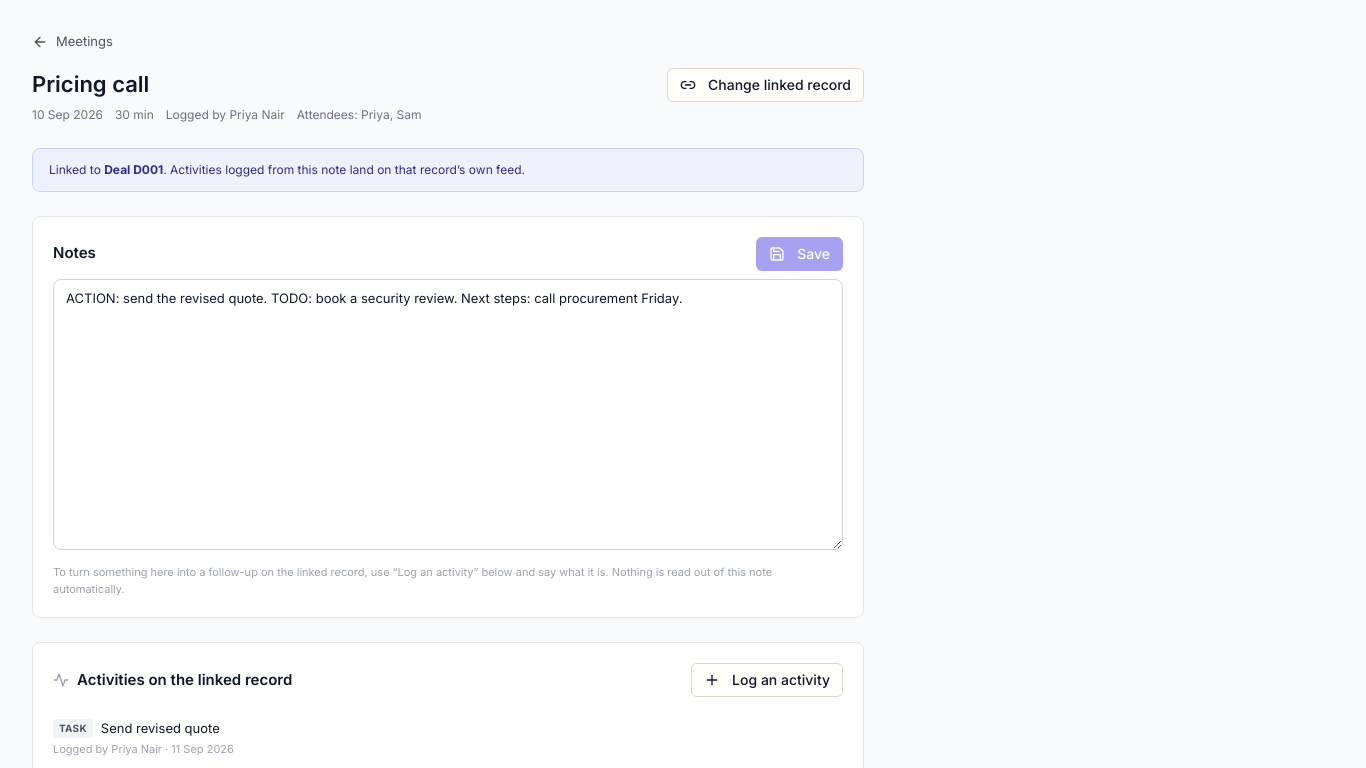
Test: the push action › shows the server's rejection verbatim — it names the field and discloses nothing
Expected: the heading "Pricing call" is shown, left=32, top=68, right=149, bottom=100
Click the button "Change linked record" at (766, 84), box left=667, top=68, right=864, bottom=102
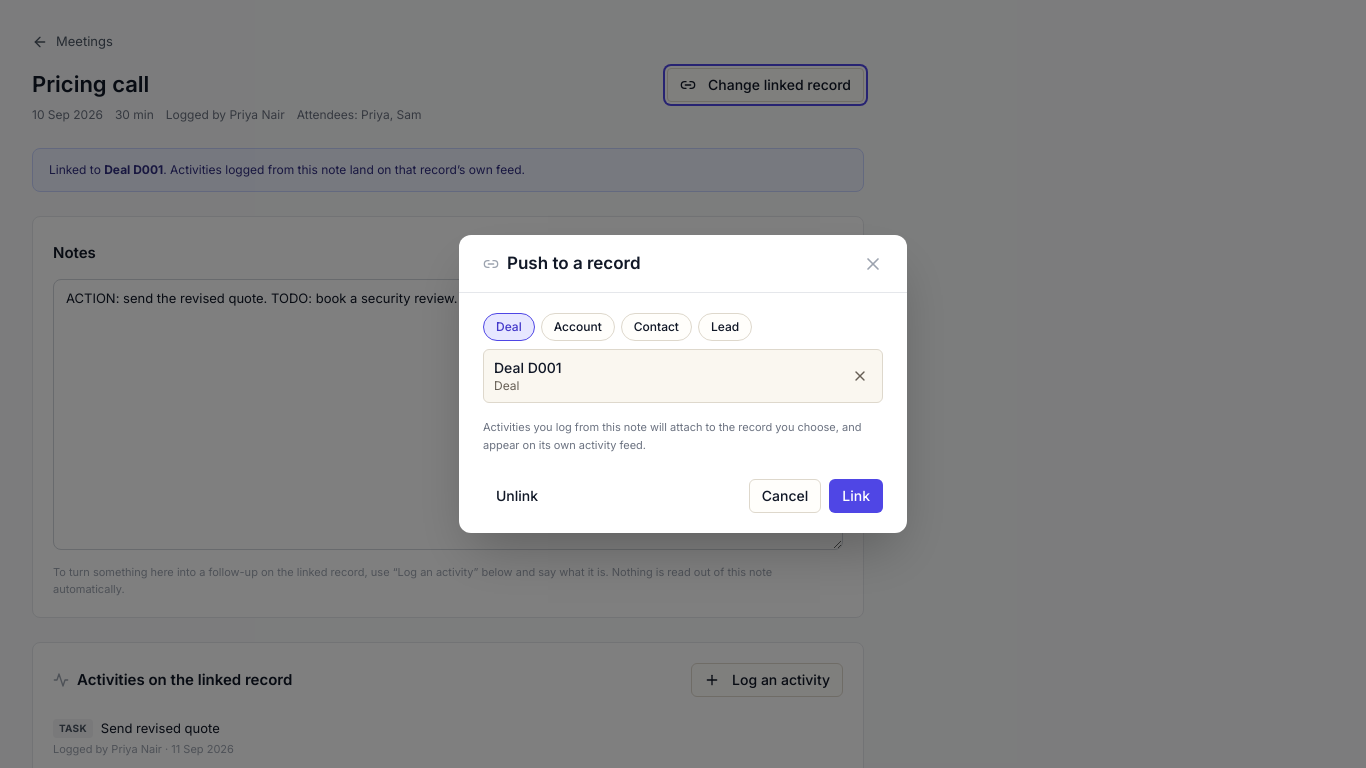
Click the button named "Clear " at (860, 376), box left=848, top=364, right=872, bottom=388
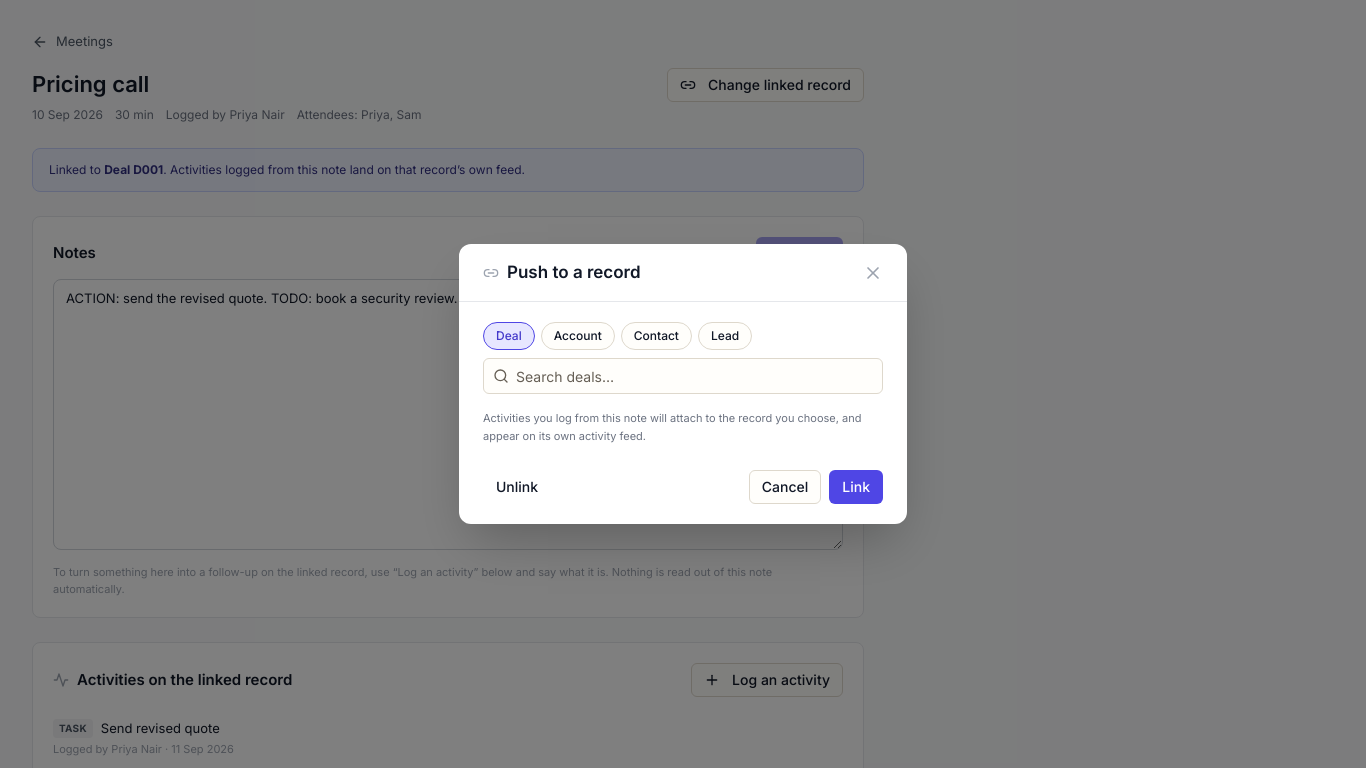
Type "Acme" into the dropdown named "Search for the record" at (683, 376), box left=483, top=358, right=883, bottom=394
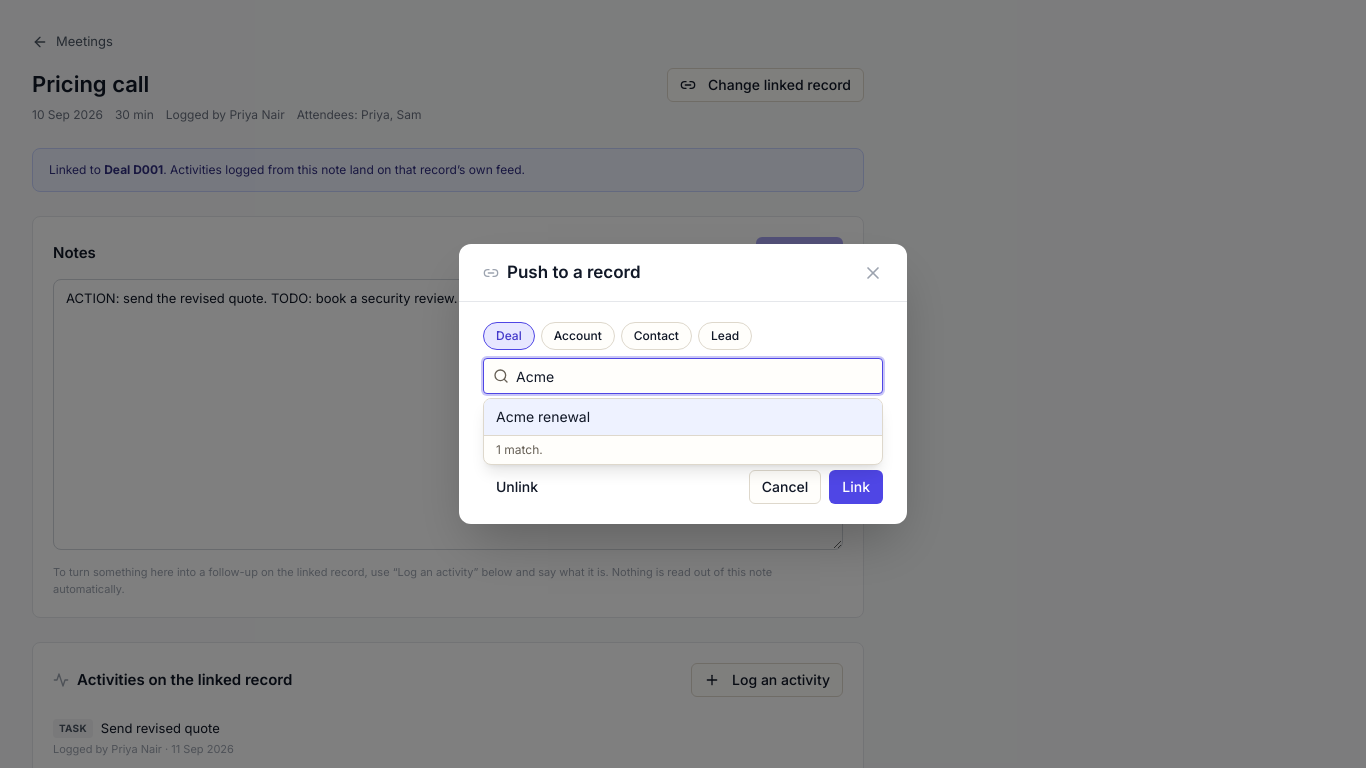
Click the option "Acme renewal" at (543, 417), box left=484, top=399, right=882, bottom=435
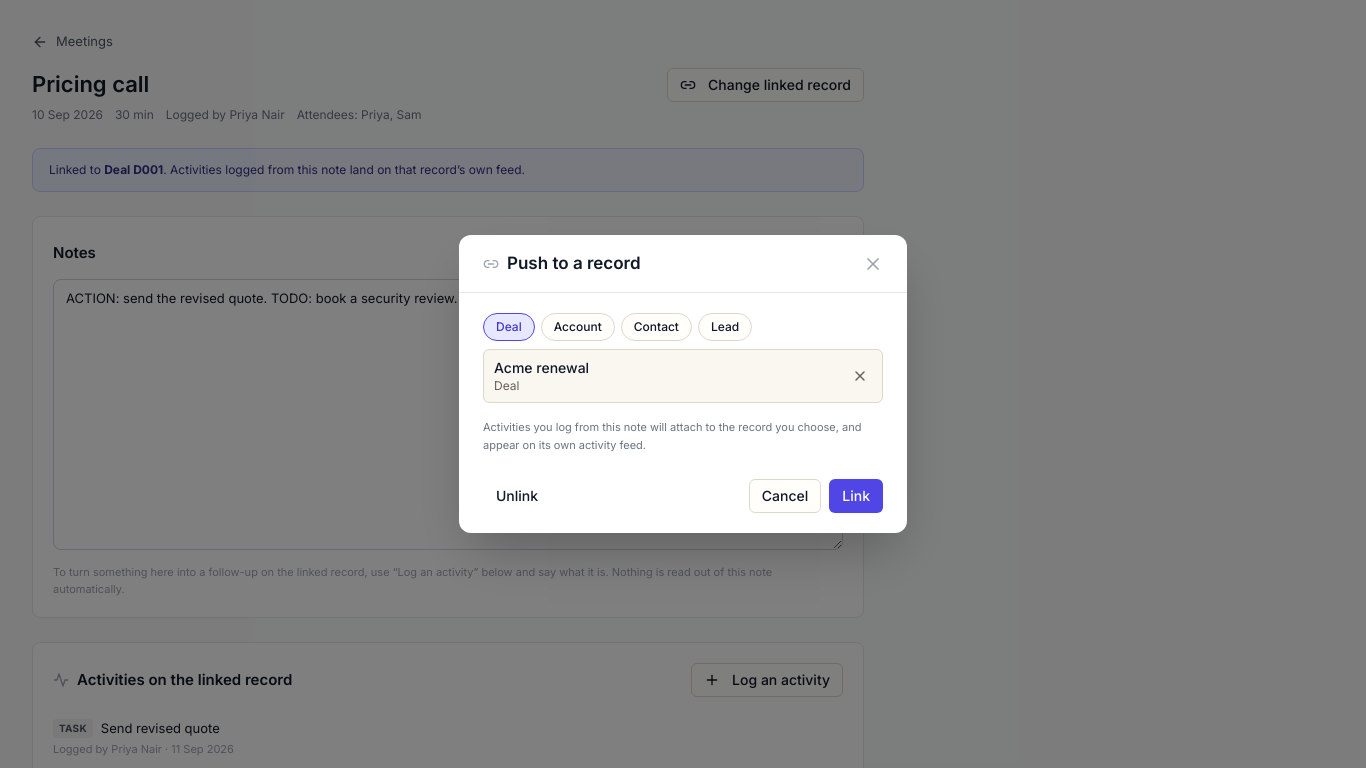
Click the button "Link" at (856, 496), box left=829, top=479, right=883, bottom=513
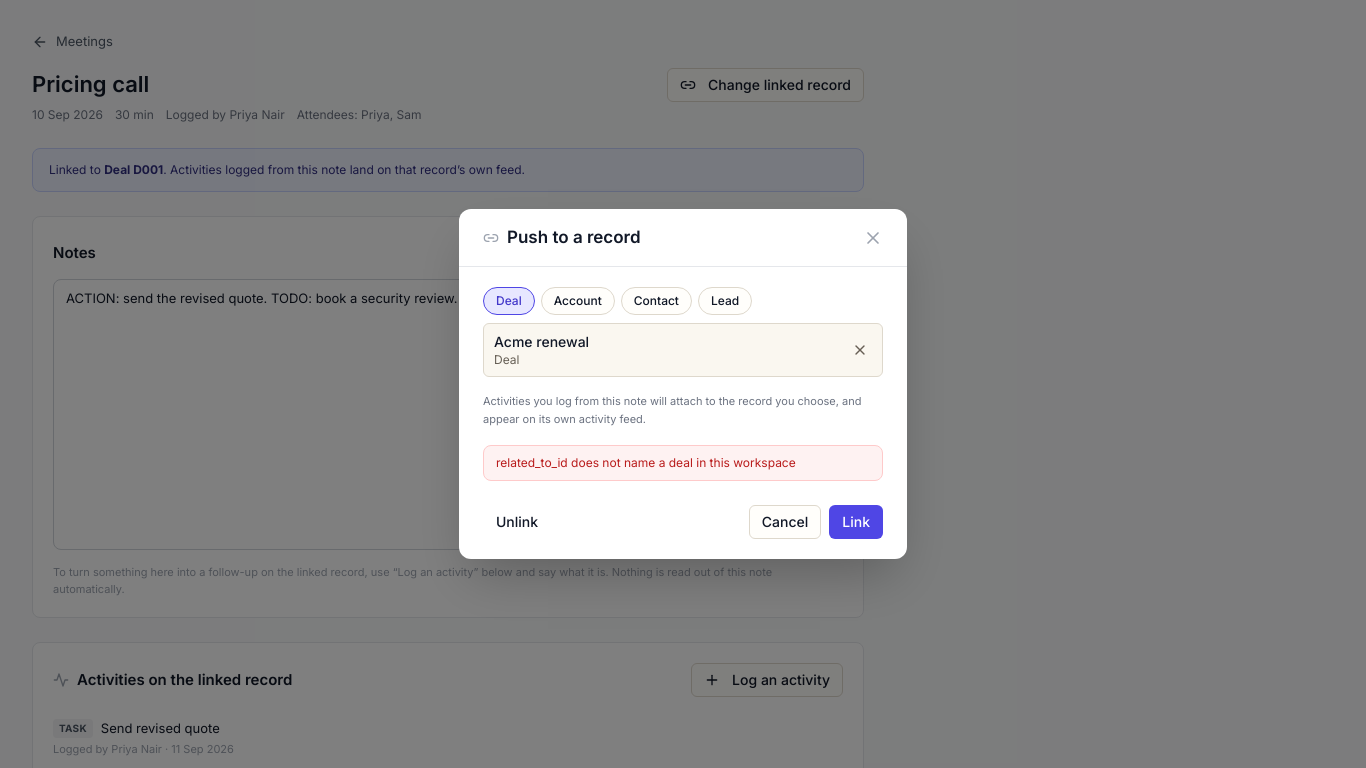
Expected: the text "related_to_id does not name a deal in this workspace" is shown, left=483, top=445, right=883, bottom=481
